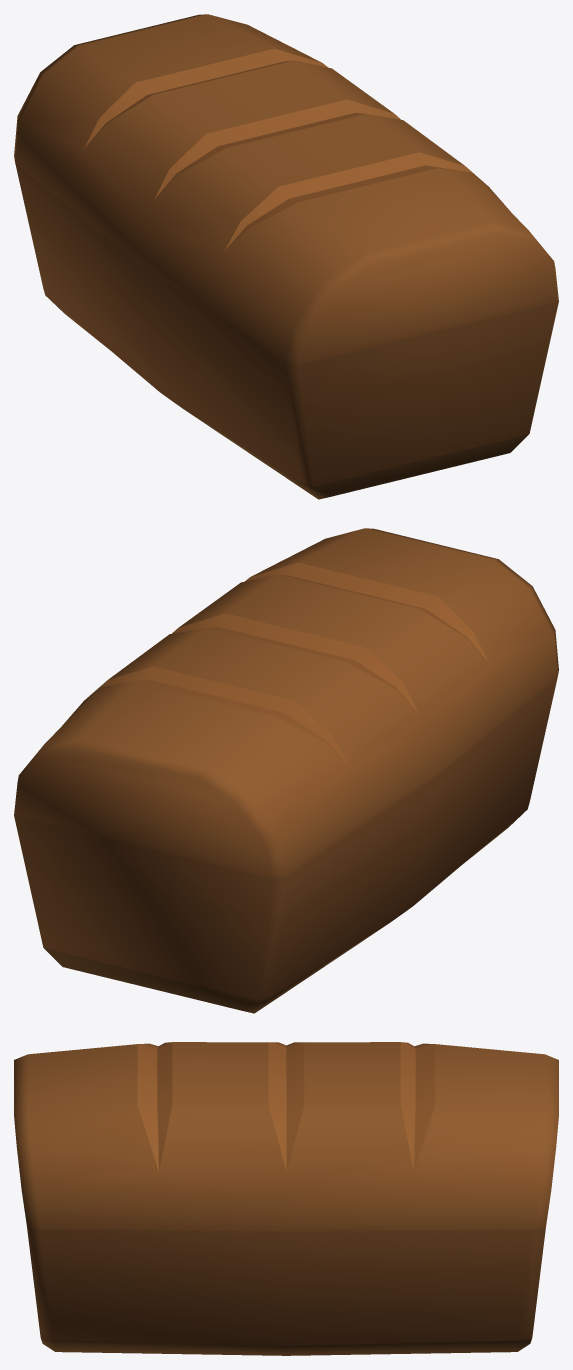
File: Bread_1_C.fbx
3 renders of one model, top to bottom at view 1: azimuth 30°, elevation 25°; view 2: azimuth 150°, elevation 25°; view 3: azimuth 270°, elevation 25°, orthographic. The views are drawn at different scales.
Parts seen in each view (by area): view 1: Bread_1_C; view 2: Bread_1_C; view 3: Bread_1_C.
Boxes of the visible parts, bbox=[...] form: Bread_1_C: bbox=[14, 14, 558, 499]; Bread_1_C: bbox=[14, 528, 558, 1013]; Bread_1_C: bbox=[14, 1042, 558, 1355].
Bounding box in the file's own units: 22.97 × 18.74 × 39.14.
